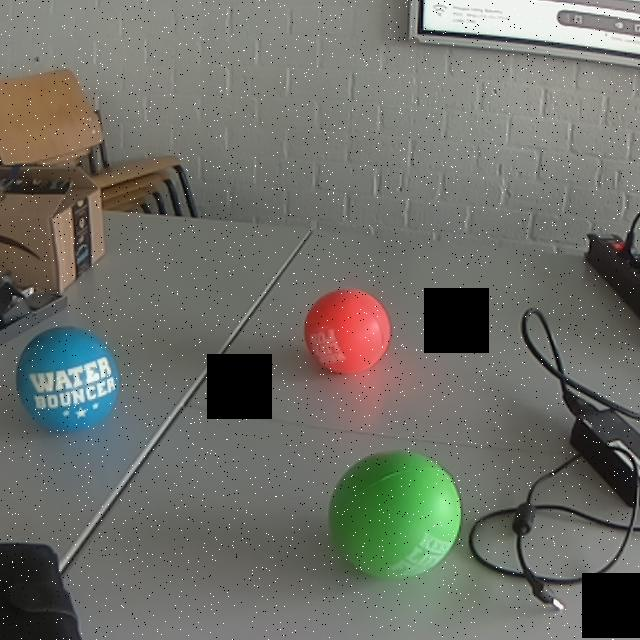ball: (326, 447, 464, 582), (304, 284, 393, 380)
